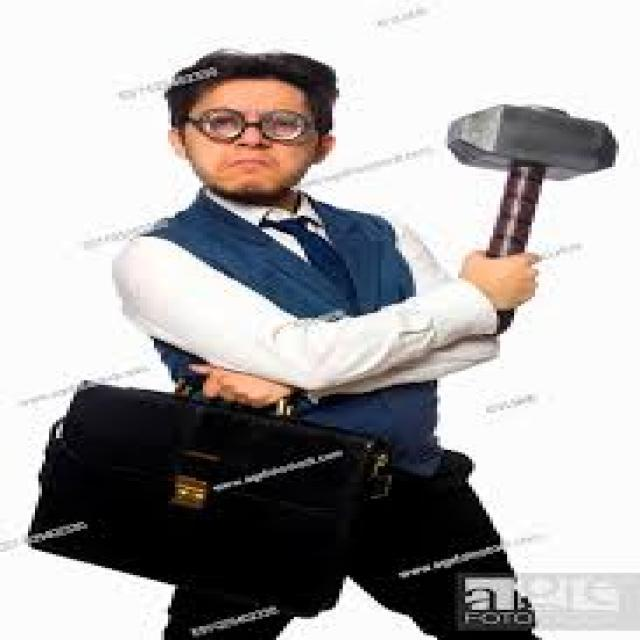hammer: (423, 87, 623, 333)
